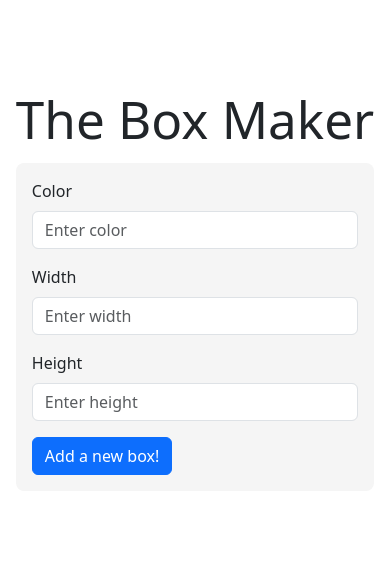
Test: can add a new box
This screenshot has width=391, height=576.
Note: Change values in the form
Type "peachpuff" into the field labelled "Color" at (195, 230), box [32,211,358,249]
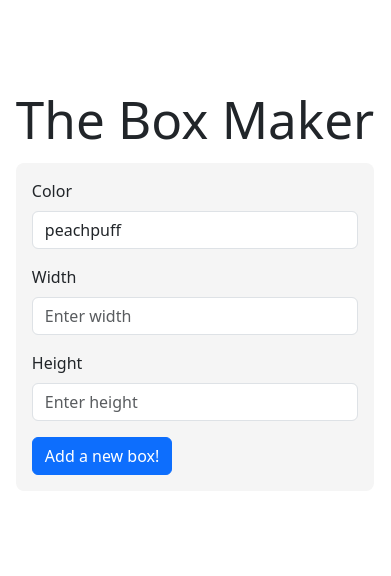
Type "10" into the number field labelled "Width" at (195, 316), box [32,297,358,335]
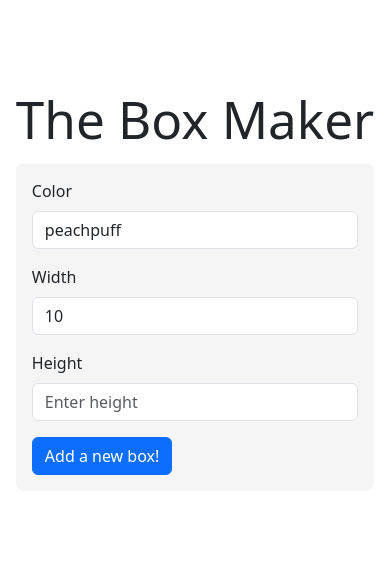
Type "10" into the number field labelled "Height" at (195, 402), box [32,383,358,421]
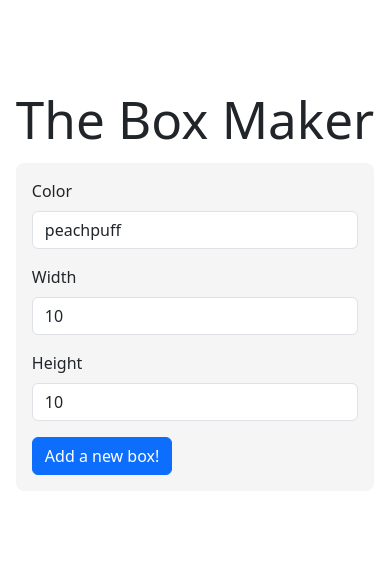
Note: Submit the form to add the box
Click the button "Add a new box!" at (102, 456), box [32,437,172,475]
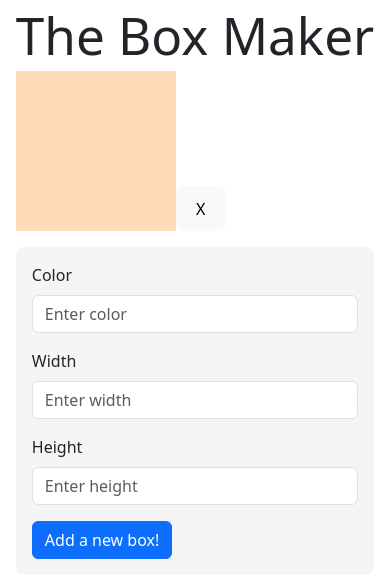
Check: the button "X" is shown, box [176,186,226,231]
